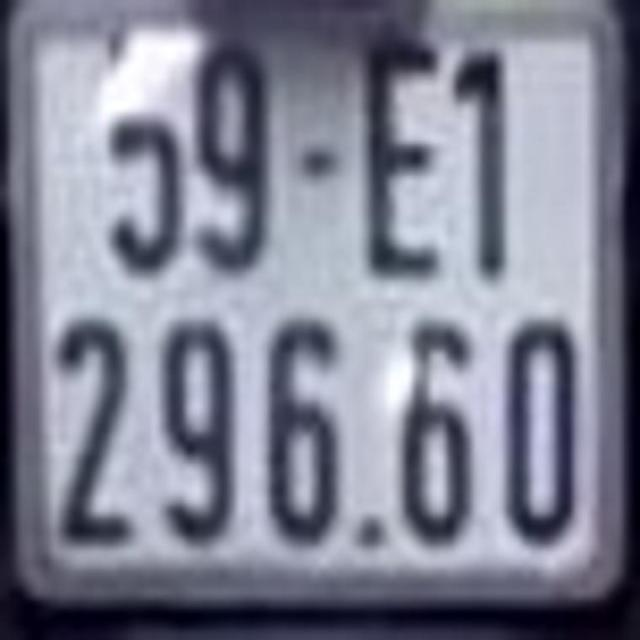0: (503, 312, 576, 547)
1: (451, 33, 516, 282)
2: (52, 313, 134, 553)
5: (102, 20, 188, 276)
6: (258, 308, 344, 548), (397, 311, 475, 552)
9: (193, 32, 270, 274), (159, 309, 233, 544)
E: (363, 32, 449, 279)
